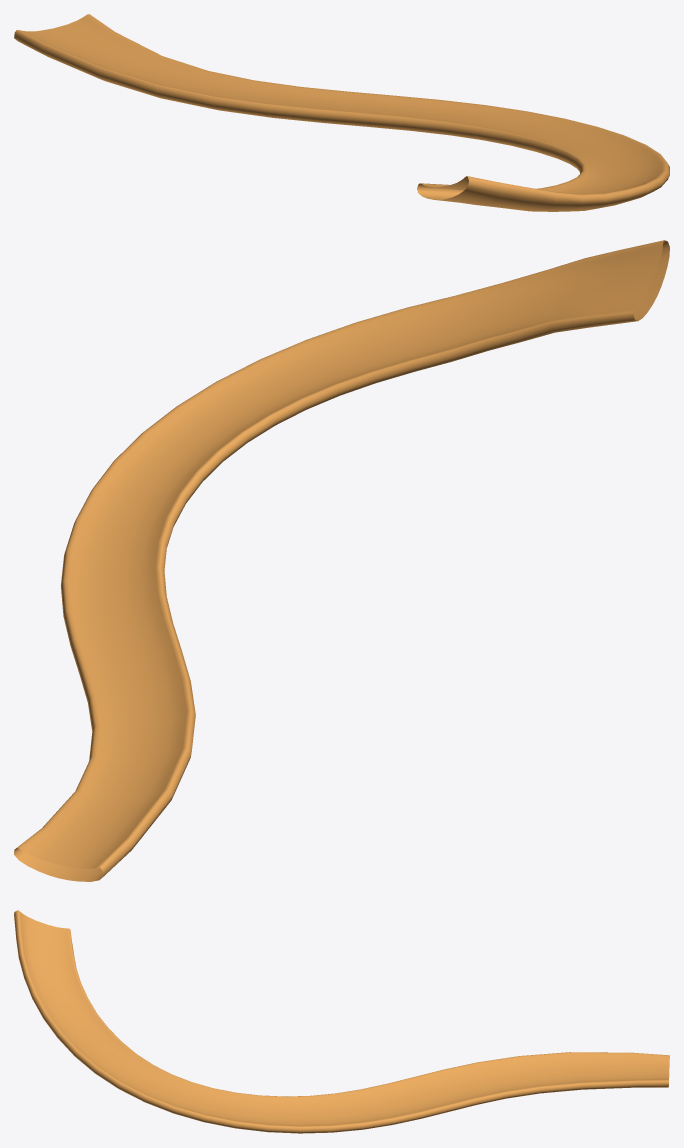
The model's file is bottom.fbx.
The picture shows the model from 3 angles, top to bottom: view 1: azimuth 30°, elevation 25°; view 2: azimuth 150°, elevation 25°; view 3: azimuth 270°, elevation 25°; orthographic projection. The views are drawn at different scales.
Parts seen in each view (by area): view 1: end_part.002; view 2: end_part.002; view 3: end_part.002.
Boxes of the visible parts, x1,y1,x2,y2 form: end_part.002: (14, 14, 669, 211); end_part.002: (14, 240, 669, 881); end_part.002: (14, 910, 669, 1133).
Size of the model in its own units: 1879 by 1188 by 4635.
